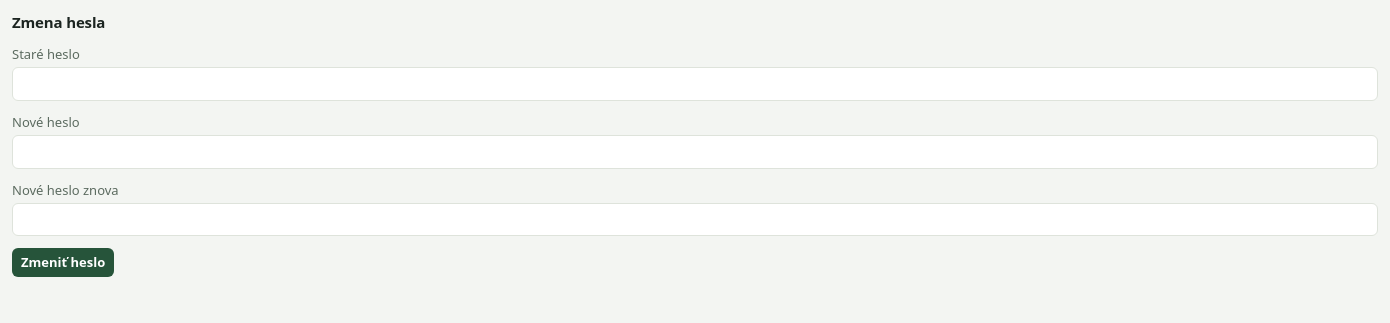
Scenario: nezhodujúce sa potvrdenie nového hesla ukáže chybu a nezavolá server
In the password field labelled "Staré heslo": (695, 84) [12, 67, 1378, 101], type "stare-heslo"
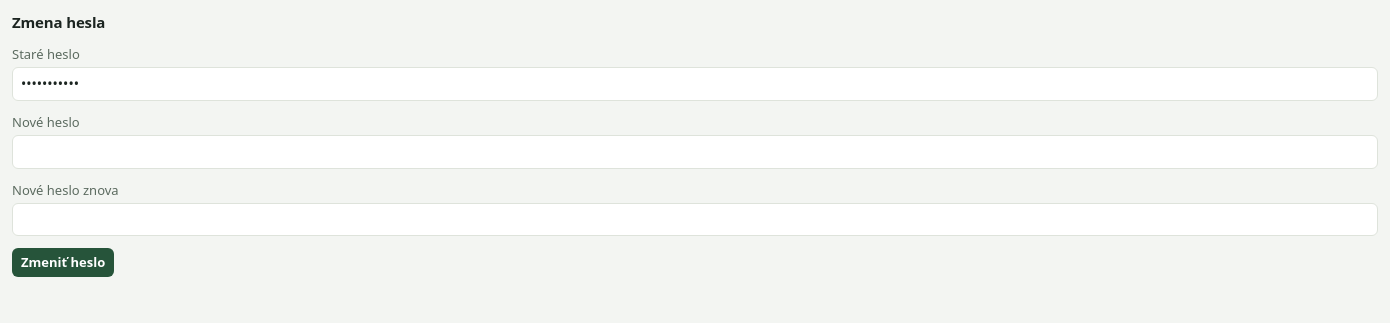
In the password field labelled "Nové heslo": (695, 152) [12, 135, 1378, 169], type "nove-heslo-123"
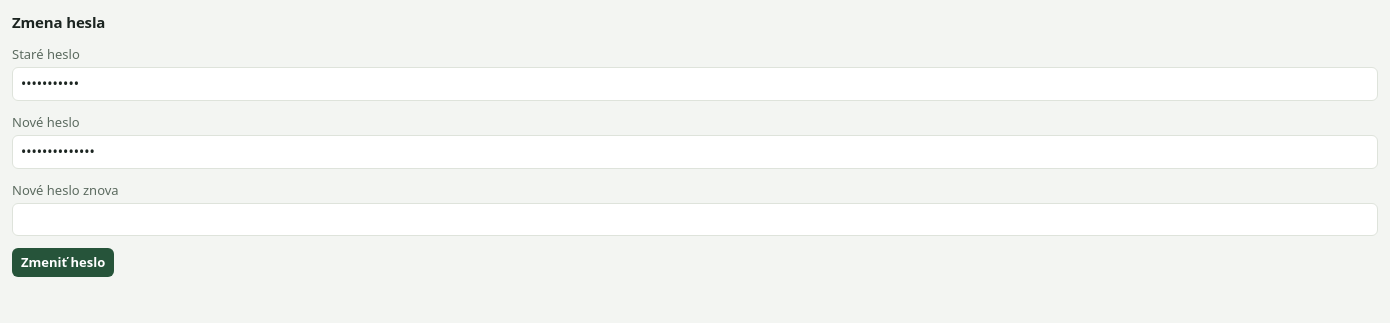
In the password field labelled "Nové heslo znova": (695, 220) [12, 203, 1378, 236], type "ine-heslo-456"
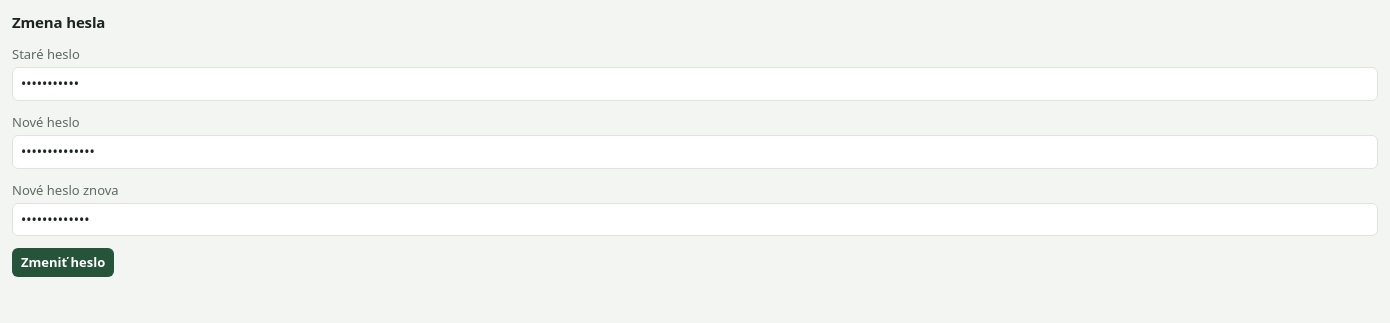
Click the button "Zmeniť heslo": (63, 262) [12, 248, 114, 276]
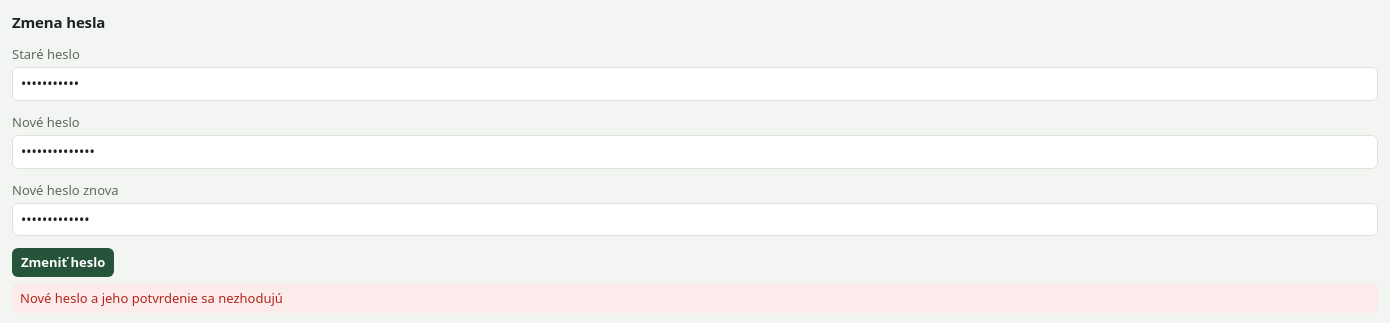
Check: the message reads "Nové heslo a jeho potvrdenie sa nezhodujú", box [20, 288, 283, 306]
